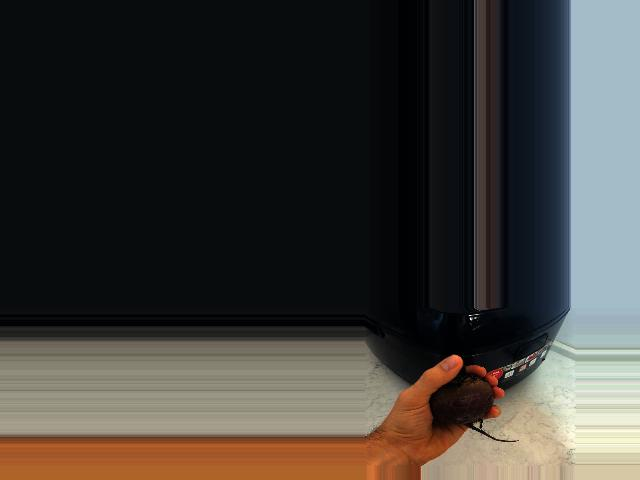beet: (430, 366, 519, 442)
